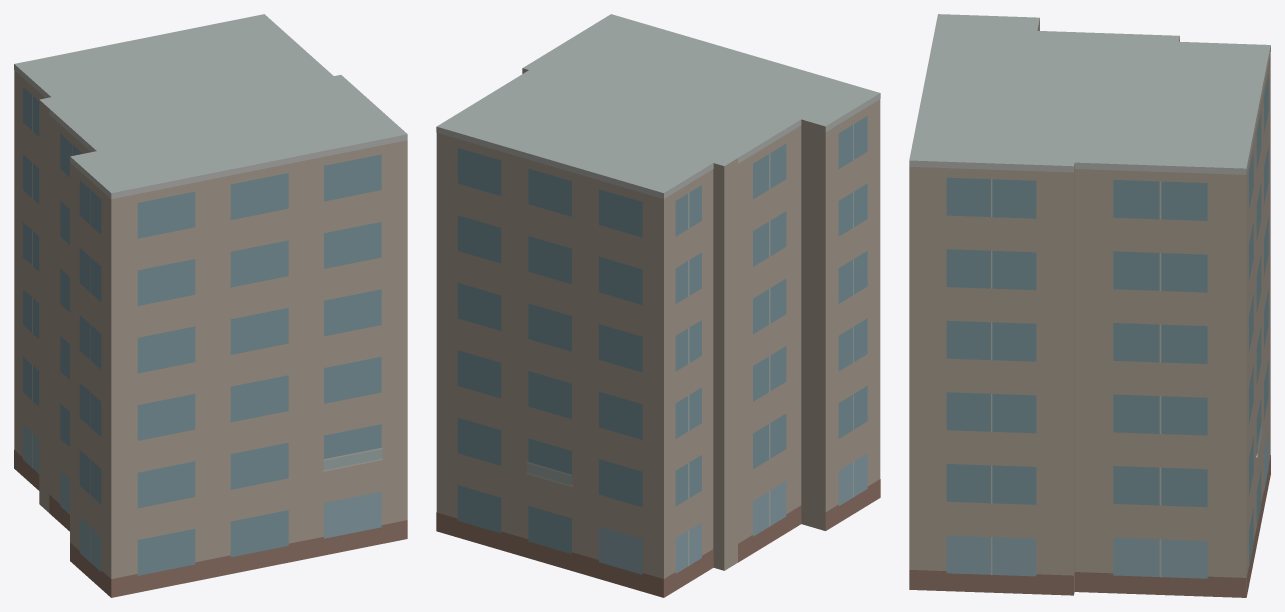
The model's file is survey-upis-32878126.glb.
3 renders of one model, left to right at view 1: azimuth 30°, elevation 25°; view 2: azimuth 150°, elevation 25°; view 3: azimuth 270°, elevation 25°, orthographic. The views are drawn at different scales.
Visible parts, largest first — view 1: survey-upis-32878126.tmp; view 2: survey-upis-32878126.tmp; view 3: survey-upis-32878126.tmp.
Part boxes in pixels (x1,y1,x2,y2): survey-upis-32878126.tmp: (14,14,407,597); survey-upis-32878126.tmp: (436,14,880,597); survey-upis-32878126.tmp: (909,14,1270,597).
Bounding box in the file's own units: 12.83 × 16.6 × 12.68.
